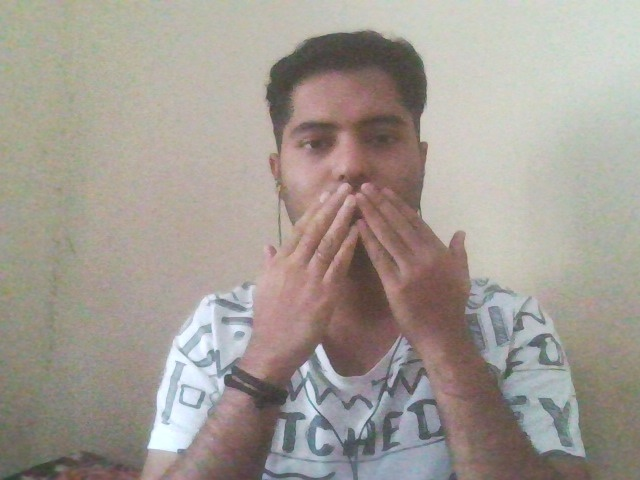Thanks: (228, 187, 525, 348)
